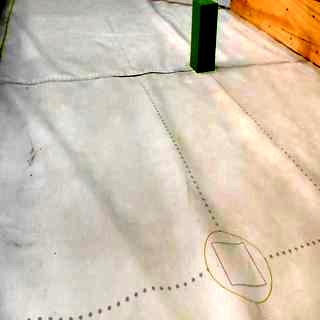greenbox: (190, 0, 218, 72)
